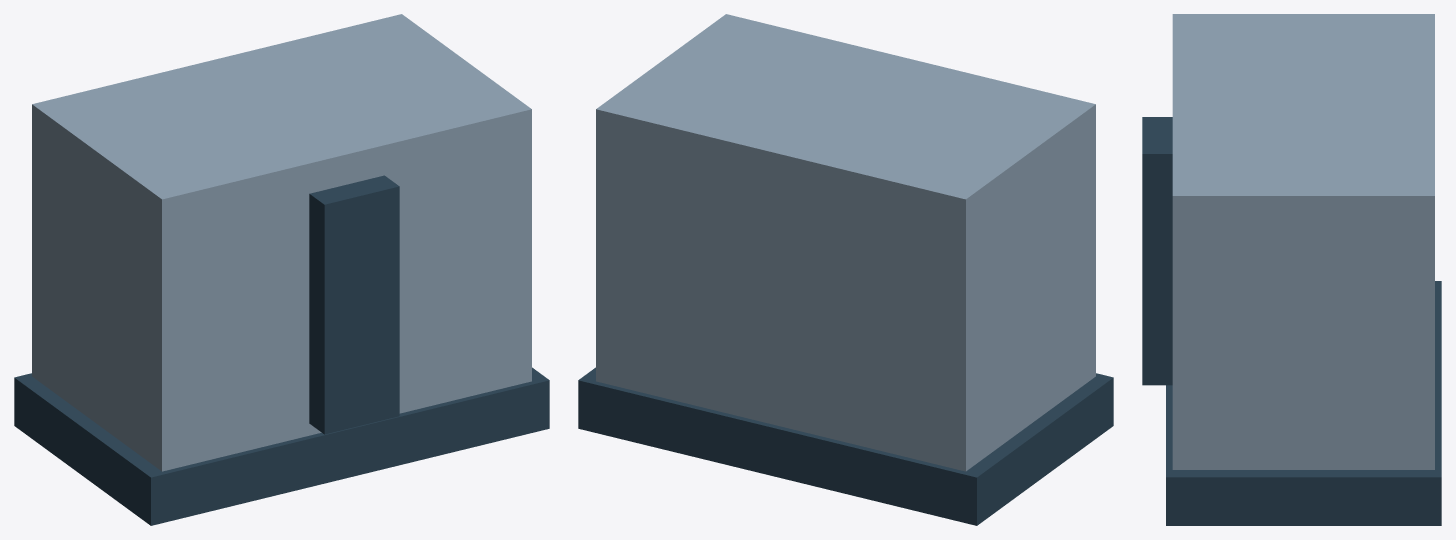
File: chest-1.obj
3 views of the same model, side by side, from view 1: azimuth 30°, elevation 25°; view 2: azimuth 150°, elevation 25°; view 3: azimuth 270°, elevation 25° (orthographic).
Size of the model in its own units: 0.69 by 0.53 by 0.445.
